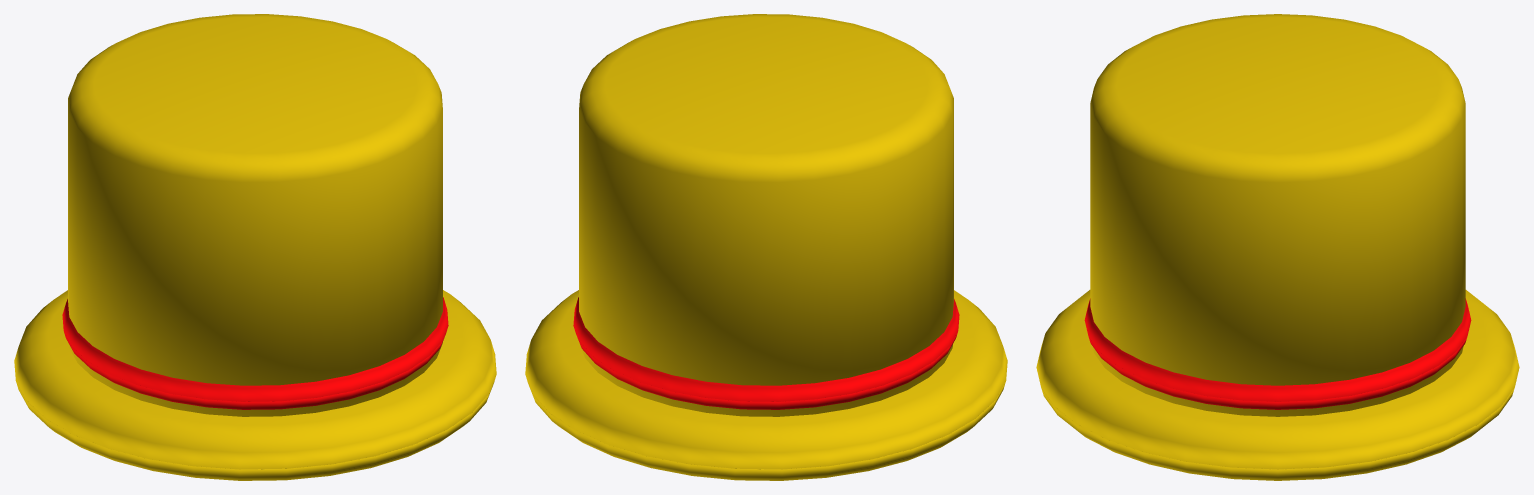
The model's file is Golden Tophat.fbx.
The picture shows the model from 3 angles, left to right: view 1: azimuth 30°, elevation 25°; view 2: azimuth 150°, elevation 25°; view 3: azimuth 270°, elevation 25°; orthographic projection.
Visible parts, largest first — view 1: Cylinder.001; view 2: Cylinder.001; view 3: Cylinder.001.
Part boxes in pixels (box(x1,y1,x2,y2)): Cylinder.001: box(14, 14, 496, 480); Cylinder.001: box(525, 14, 1007, 480); Cylinder.001: box(1036, 14, 1519, 480).
Bounding box in the file's own units: 218 × 149 × 218.
